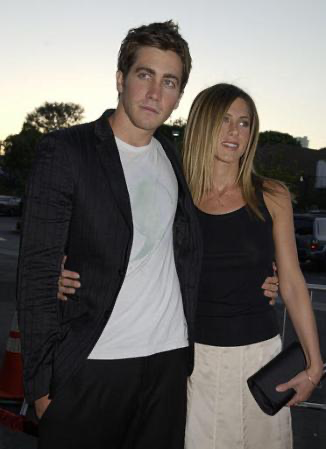Face: (125, 53, 180, 137), (212, 101, 254, 165)
